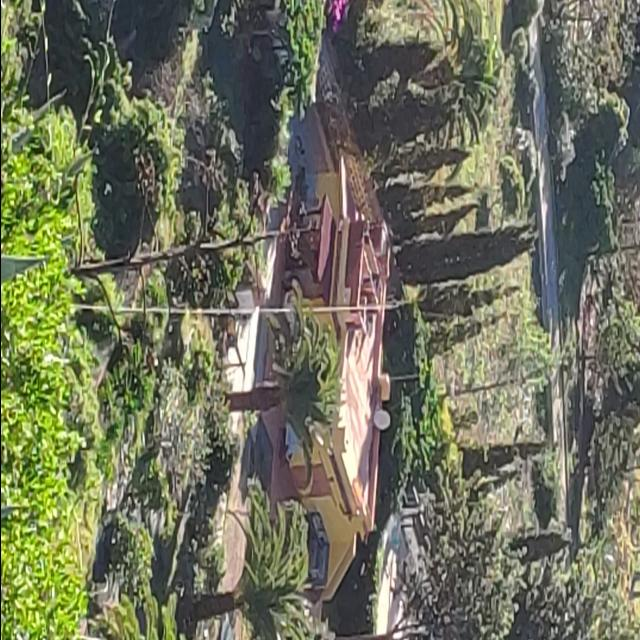Palm-Trees: (228, 312, 336, 481), (194, 517, 310, 640)
